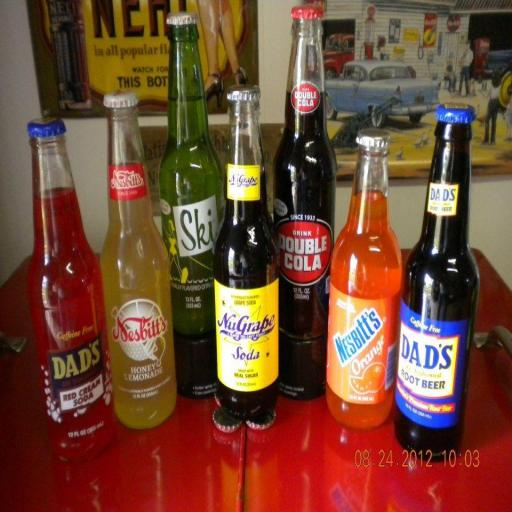glass bottle: (394, 102, 481, 464), (27, 115, 117, 462), (159, 8, 230, 400), (101, 89, 179, 431), (272, 4, 335, 403), (326, 126, 404, 431), (214, 84, 277, 432)
